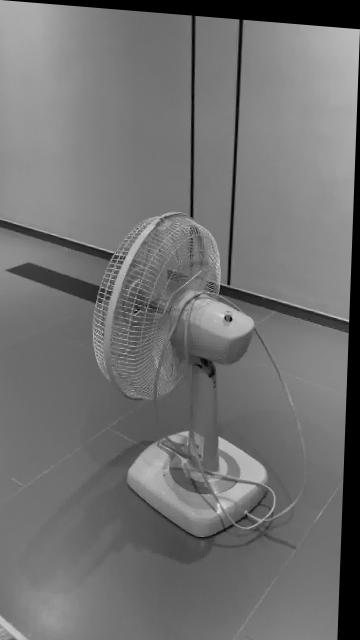Fan: (95, 210, 272, 536)
